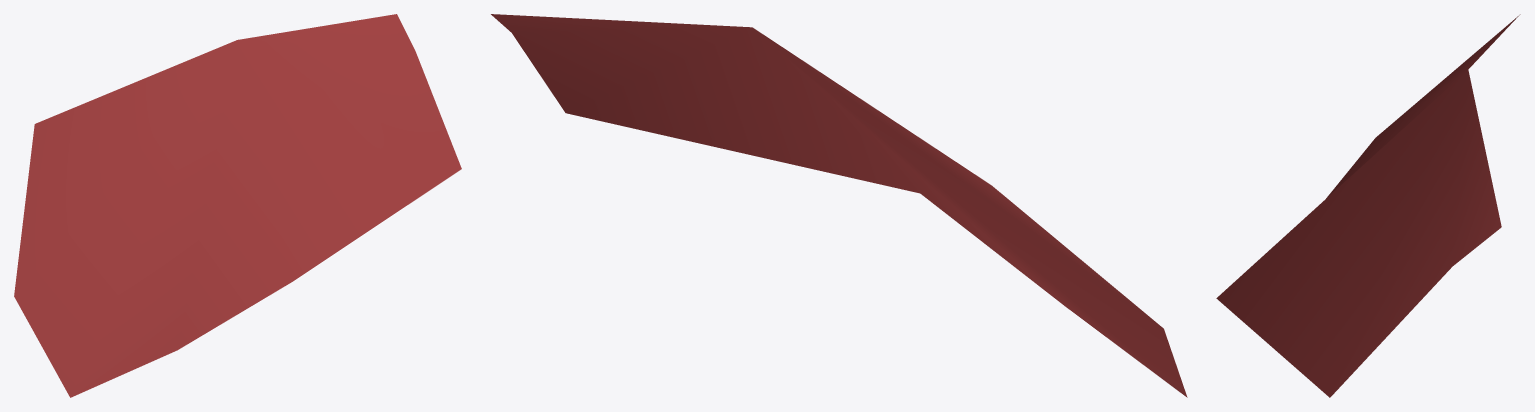
Rendered from flexor-digitorum-profundus-er.glb.
The picture shows the model from 3 angles, left to right: view 1: azimuth 30°, elevation 25°; view 2: azimuth 150°, elevation 25°; view 3: azimuth 270°, elevation 25°; orthographic projection. The views are drawn at different scales.
Parts seen in each view (by area): view 1: Flexor digitorum profundus.er; view 2: Flexor digitorum profundus.er; view 3: Flexor digitorum profundus.er.
Part boxes in pixels (left/top/right/bottom): Flexor digitorum profundus.er: left=14, top=14, right=461, bottom=397; Flexor digitorum profundus.er: left=491, top=14, right=1187, bottom=397; Flexor digitorum profundus.er: left=1216, top=14, right=1520, bottom=397.
Size of the model in its own units: 0.00334 by 0.00185 by 0.00139.
